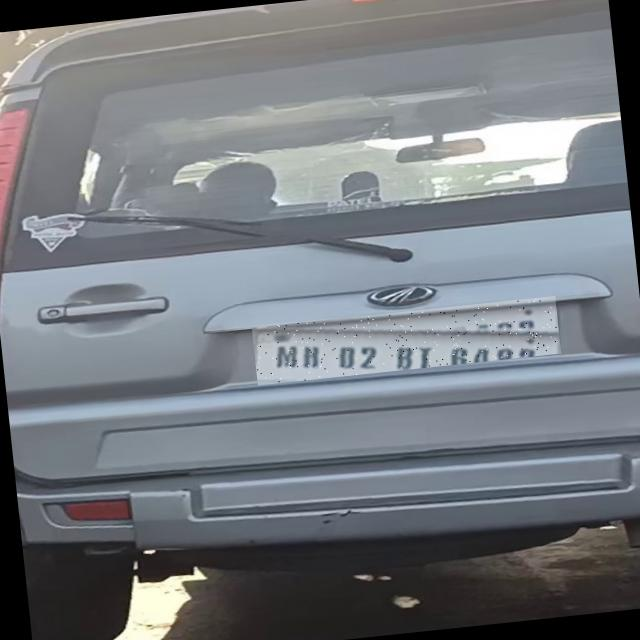Plate: (253, 296, 562, 386)
